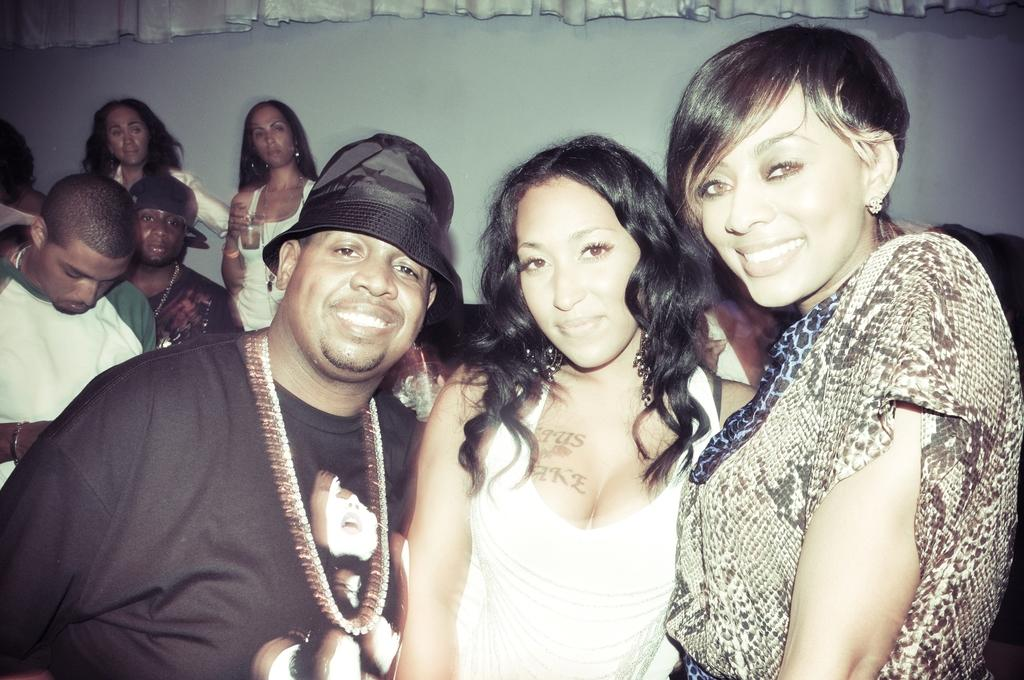Hat: (261, 132, 461, 324), (131, 174, 207, 246)
